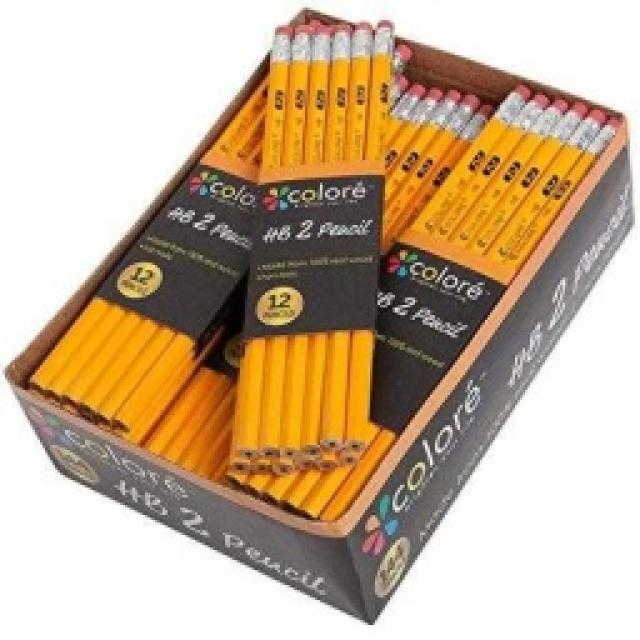pencil: (3, 3, 635, 625)
